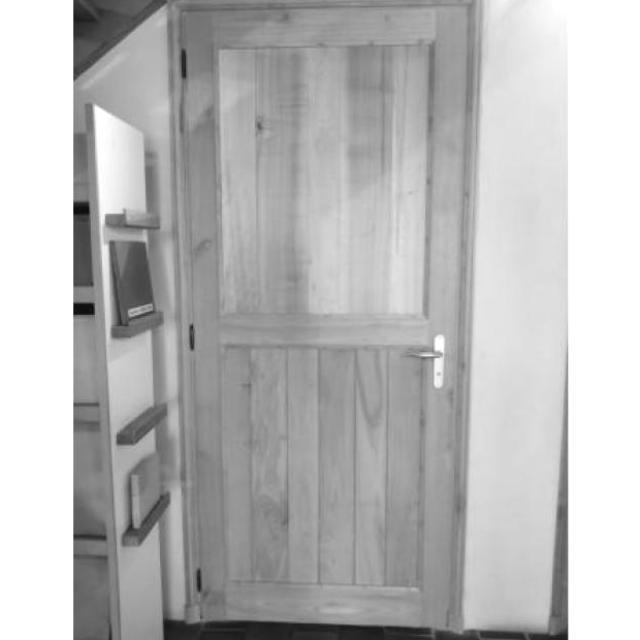door: (172, 0, 481, 631)
